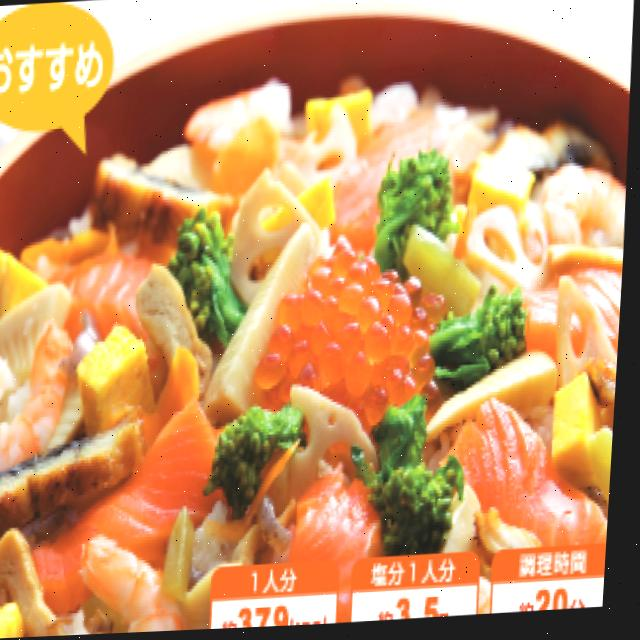寿司卷物: (0, 123, 633, 556)
